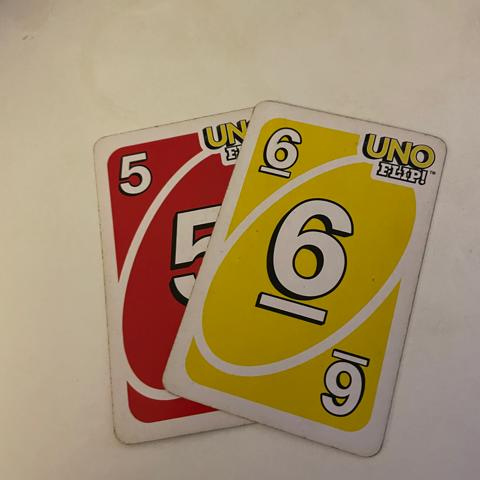lred-5: (106, 142, 170, 200)
lyellow-6: (254, 118, 314, 188)
